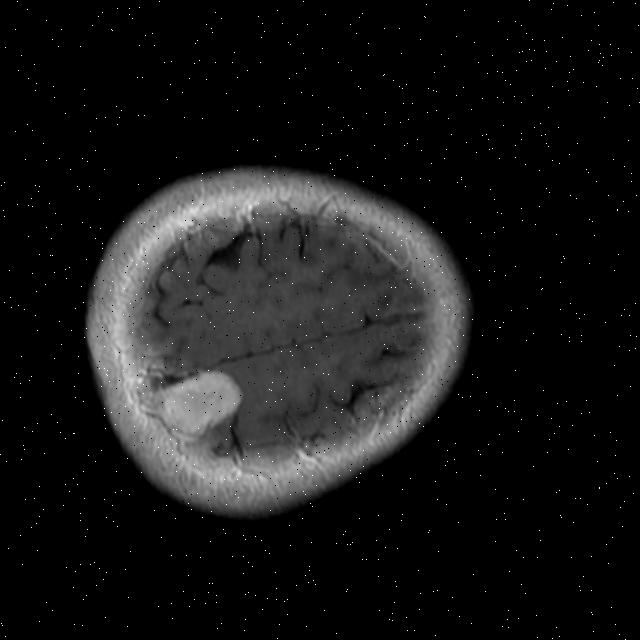Meningioma: (151, 361, 254, 451)
